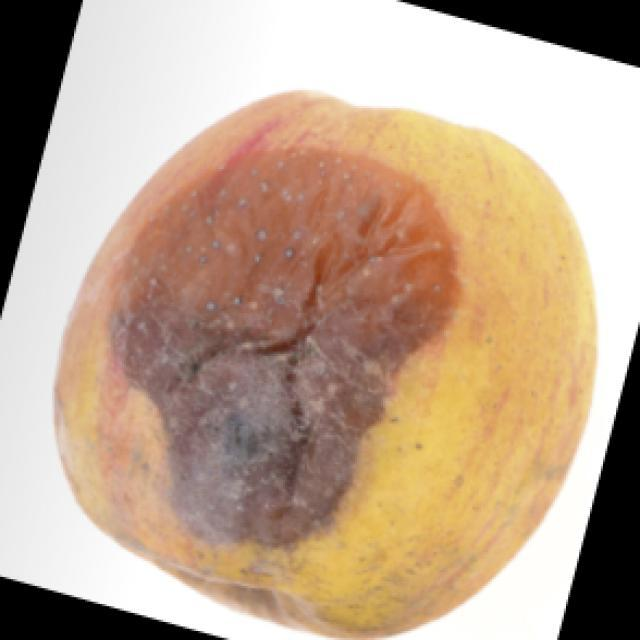Rotten: (68, 100, 622, 640)
